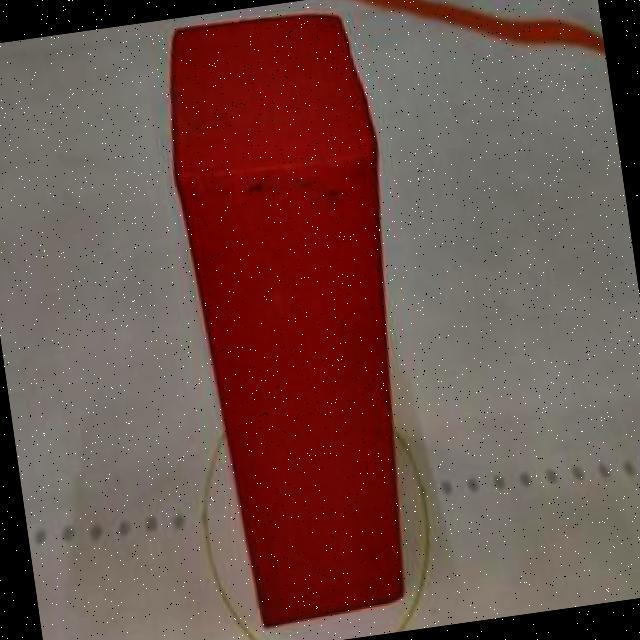redbox: (151, 0, 443, 632)
